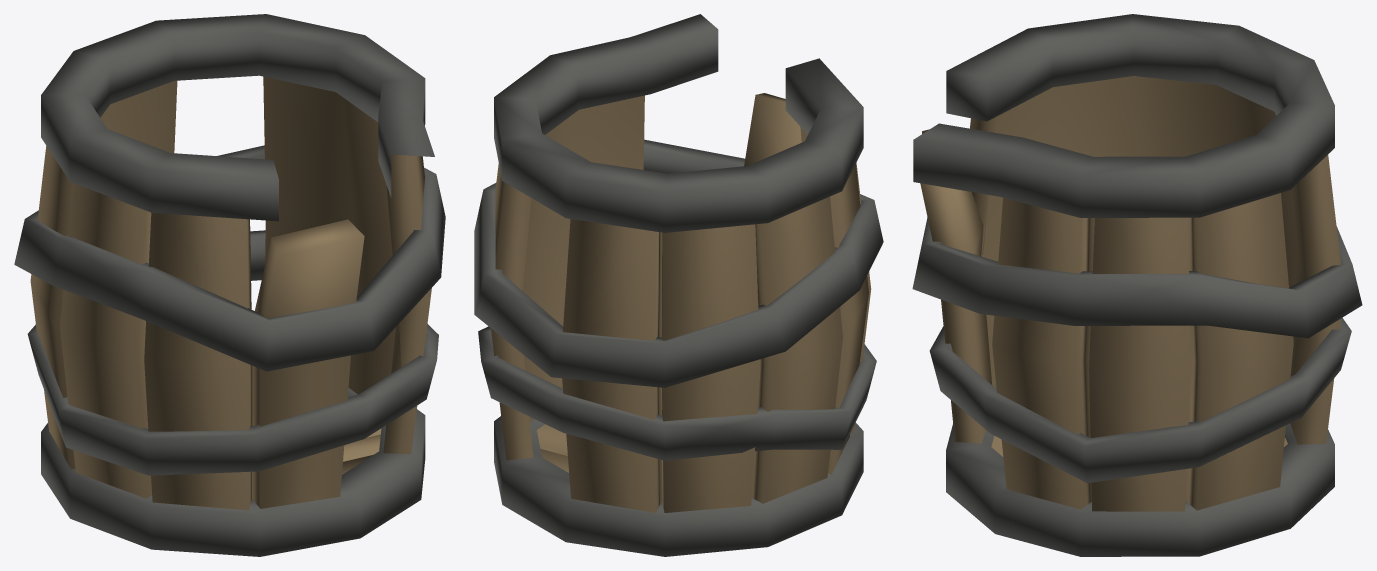
The model's file is rpgpp_av_barrel_02a.gltf.
The picture shows the model from 3 angles, left to right: view 1: azimuth 30°, elevation 25°; view 2: azimuth 150°, elevation 25°; view 3: azimuth 270°, elevation 25°; orthographic projection. The views are drawn at different scales.
Visible parts, largest first — view 1: rpgpp_av_barrel_02a; view 2: rpgpp_av_barrel_02a; view 3: rpgpp_av_barrel_02a.
Boxes of the visible parts, bbox=[...] form: rpgpp_av_barrel_02a: bbox=[14, 14, 445, 556]; rpgpp_av_barrel_02a: bbox=[474, 14, 883, 556]; rpgpp_av_barrel_02a: bbox=[912, 14, 1362, 556].
Size of the model in its own units: 0.00945 by 0.00945 by 0.01.
1 material, 1 textured.
